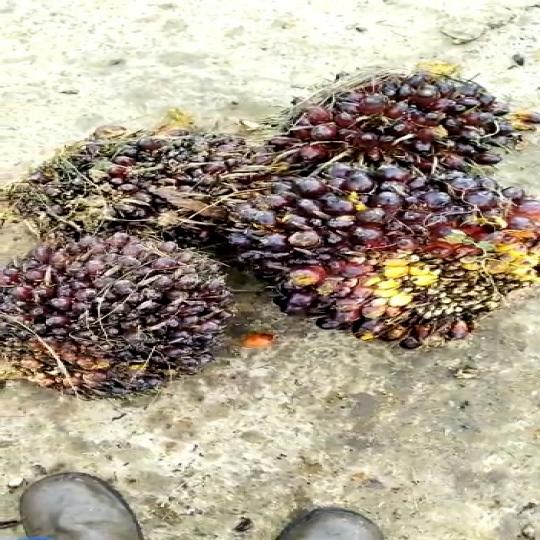kurang masak: (215, 165, 534, 332), (0, 241, 255, 393), (268, 75, 540, 186), (7, 124, 260, 239)
